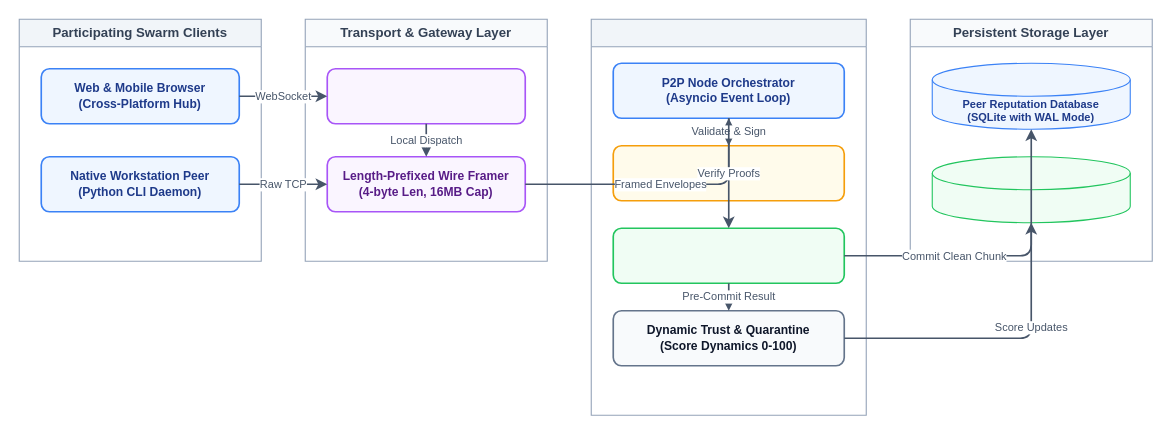
Some shapes in this 1172 by 435 pixel diagram are drawn without their labels. The box of each missing label's shape, as (x1, y1, x2, y2) in pixels:
Core Zero-Trust Microservices: (590, 18, 866, 415)
Crypto Identity & Signer (2048-bit RSA-PSS, MGF1): (612, 144, 845, 201)
In-Memory Merkle Verifier (RFC 6962 Domain-Separated): (612, 227, 845, 284)
Swarm Web Gateway (Streamlit Port 8500): (326, 67, 526, 124)
Verified Chunk Storage (Zero-Contamination Files): (931, 156, 1130, 223)
